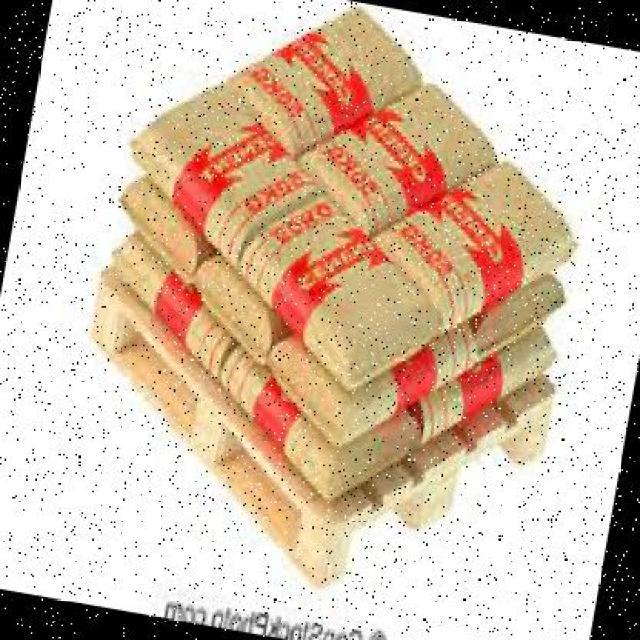gunny_bag: (375, 157, 575, 334), (222, 11, 419, 157), (295, 86, 497, 227), (215, 342, 333, 495), (105, 241, 234, 378), (411, 330, 556, 441), (237, 243, 350, 380), (132, 135, 247, 266), (123, 180, 209, 286), (268, 334, 349, 442), (195, 252, 269, 366), (471, 274, 560, 357)
